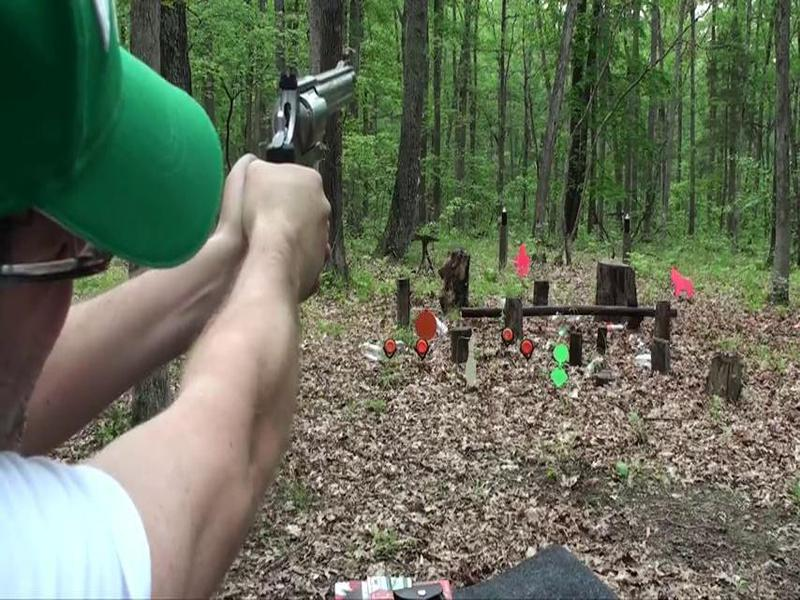Revolver: (217, 42, 376, 240)
